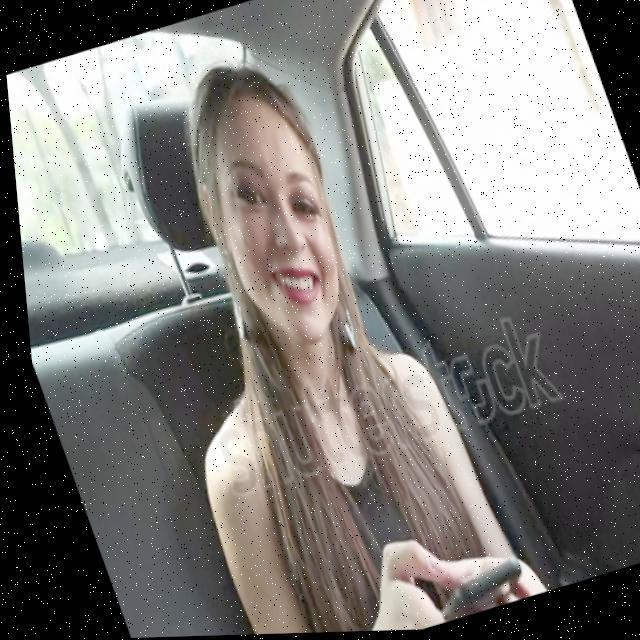PhoneCall: (412, 554, 526, 624)
